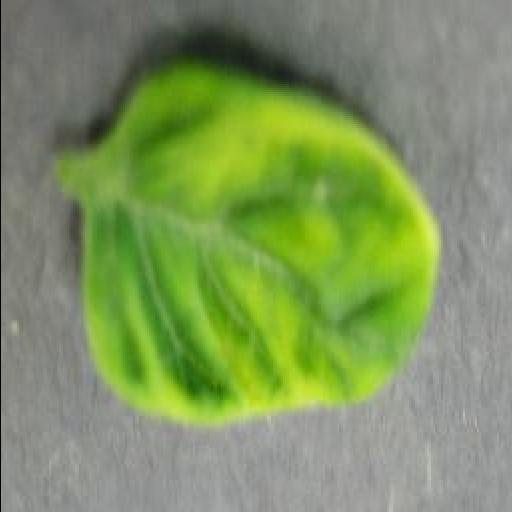disease_tomato: (80, 56, 442, 426)
